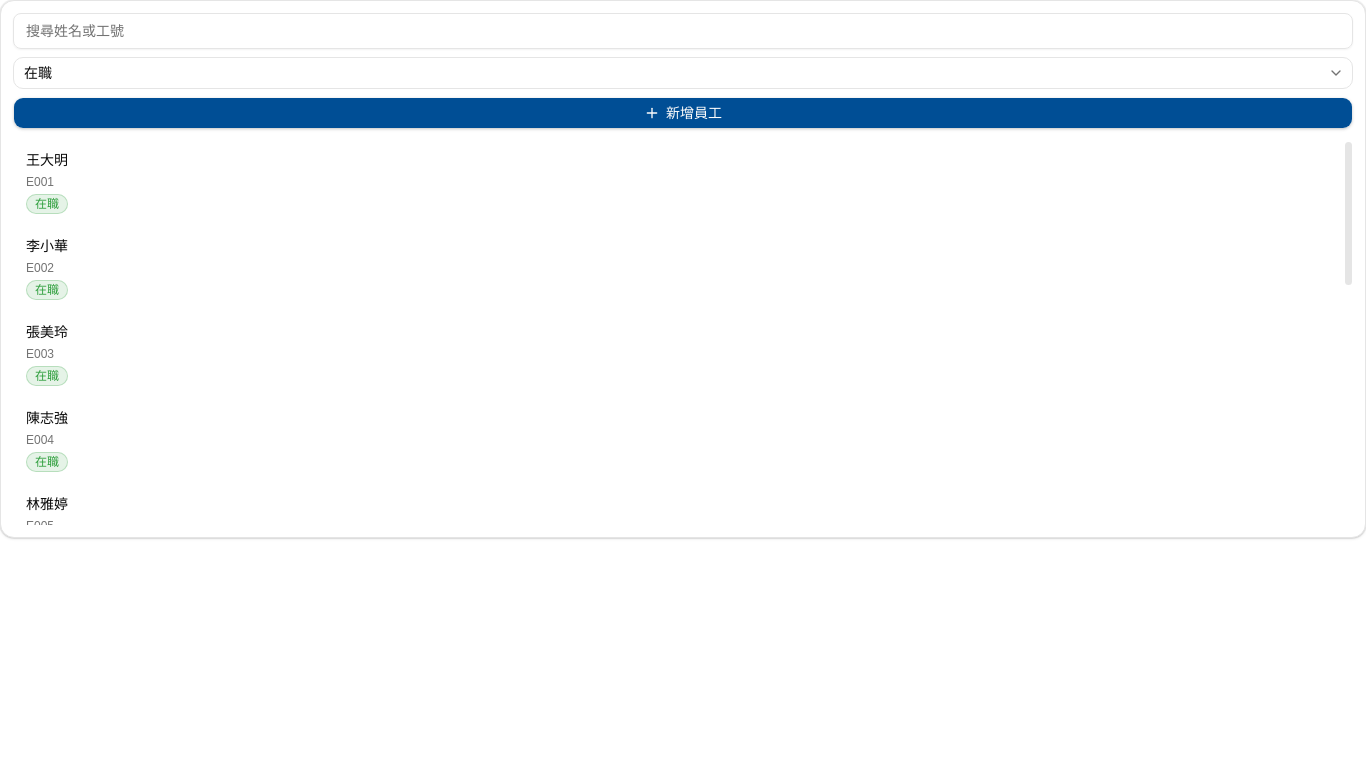
Test case: EmployeeList 員工清單 › 輸入關鍵字可依姓名篩選
Type "王大明" into the field with placeholder "搜尋姓名或工號" at (683, 31), box [13, 13, 1353, 49]
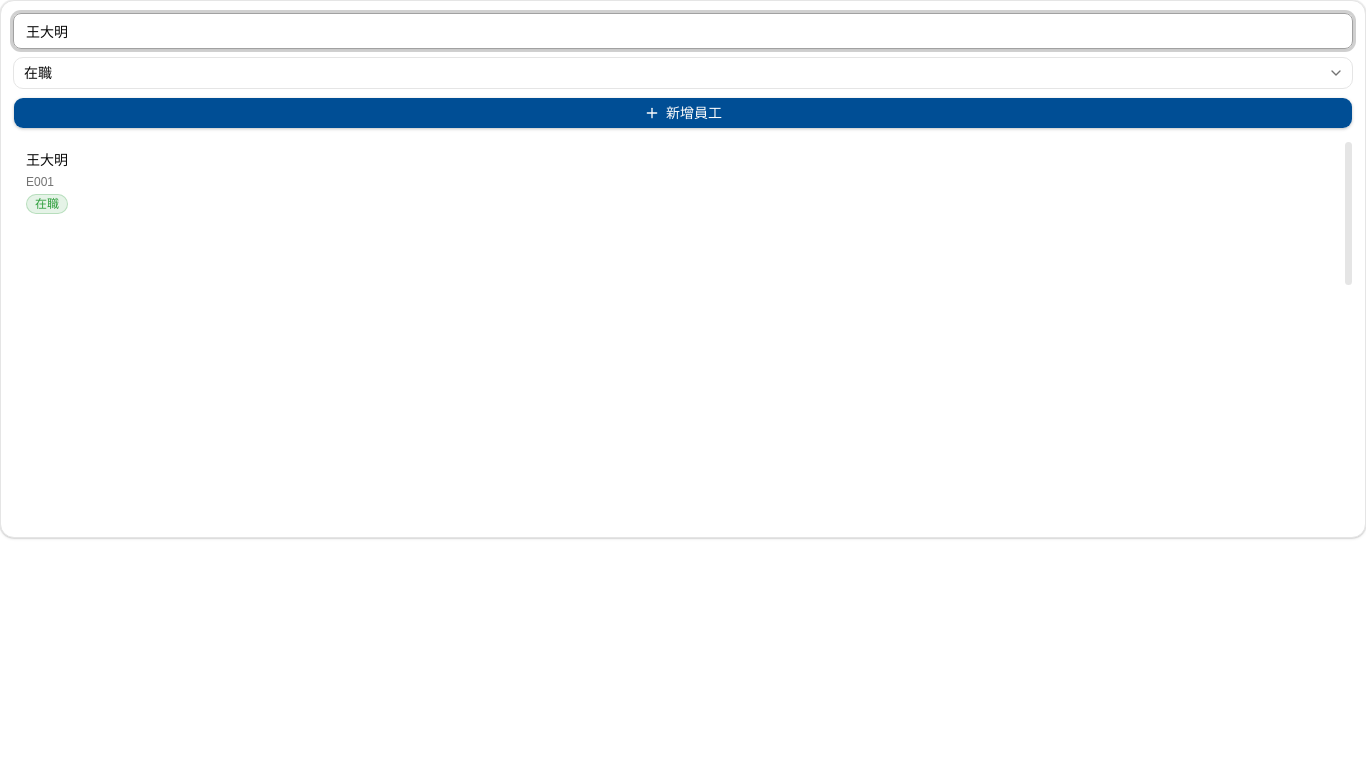
Expected: the text "王大明" is shown, [26, 150, 68, 170]
Expected: the button "李小華" is gone
